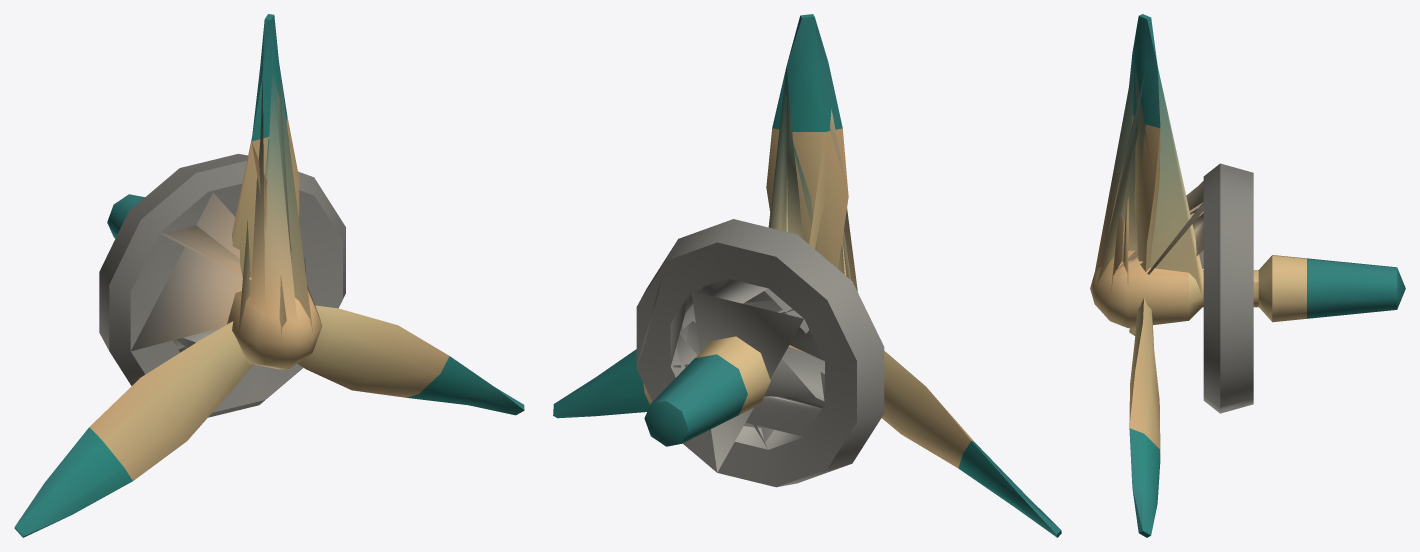
The model's file is tesla_coil.glb.
The picture shows the model from 3 angles, left to right: view 1: azimuth 30°, elevation 25°; view 2: azimuth 150°, elevation 25°; view 3: azimuth 270°, elevation 25°; orthographic projection. The views are drawn at different scales.
Size of the model in its own units: 1.67 by 1.44 by 0.9998.
